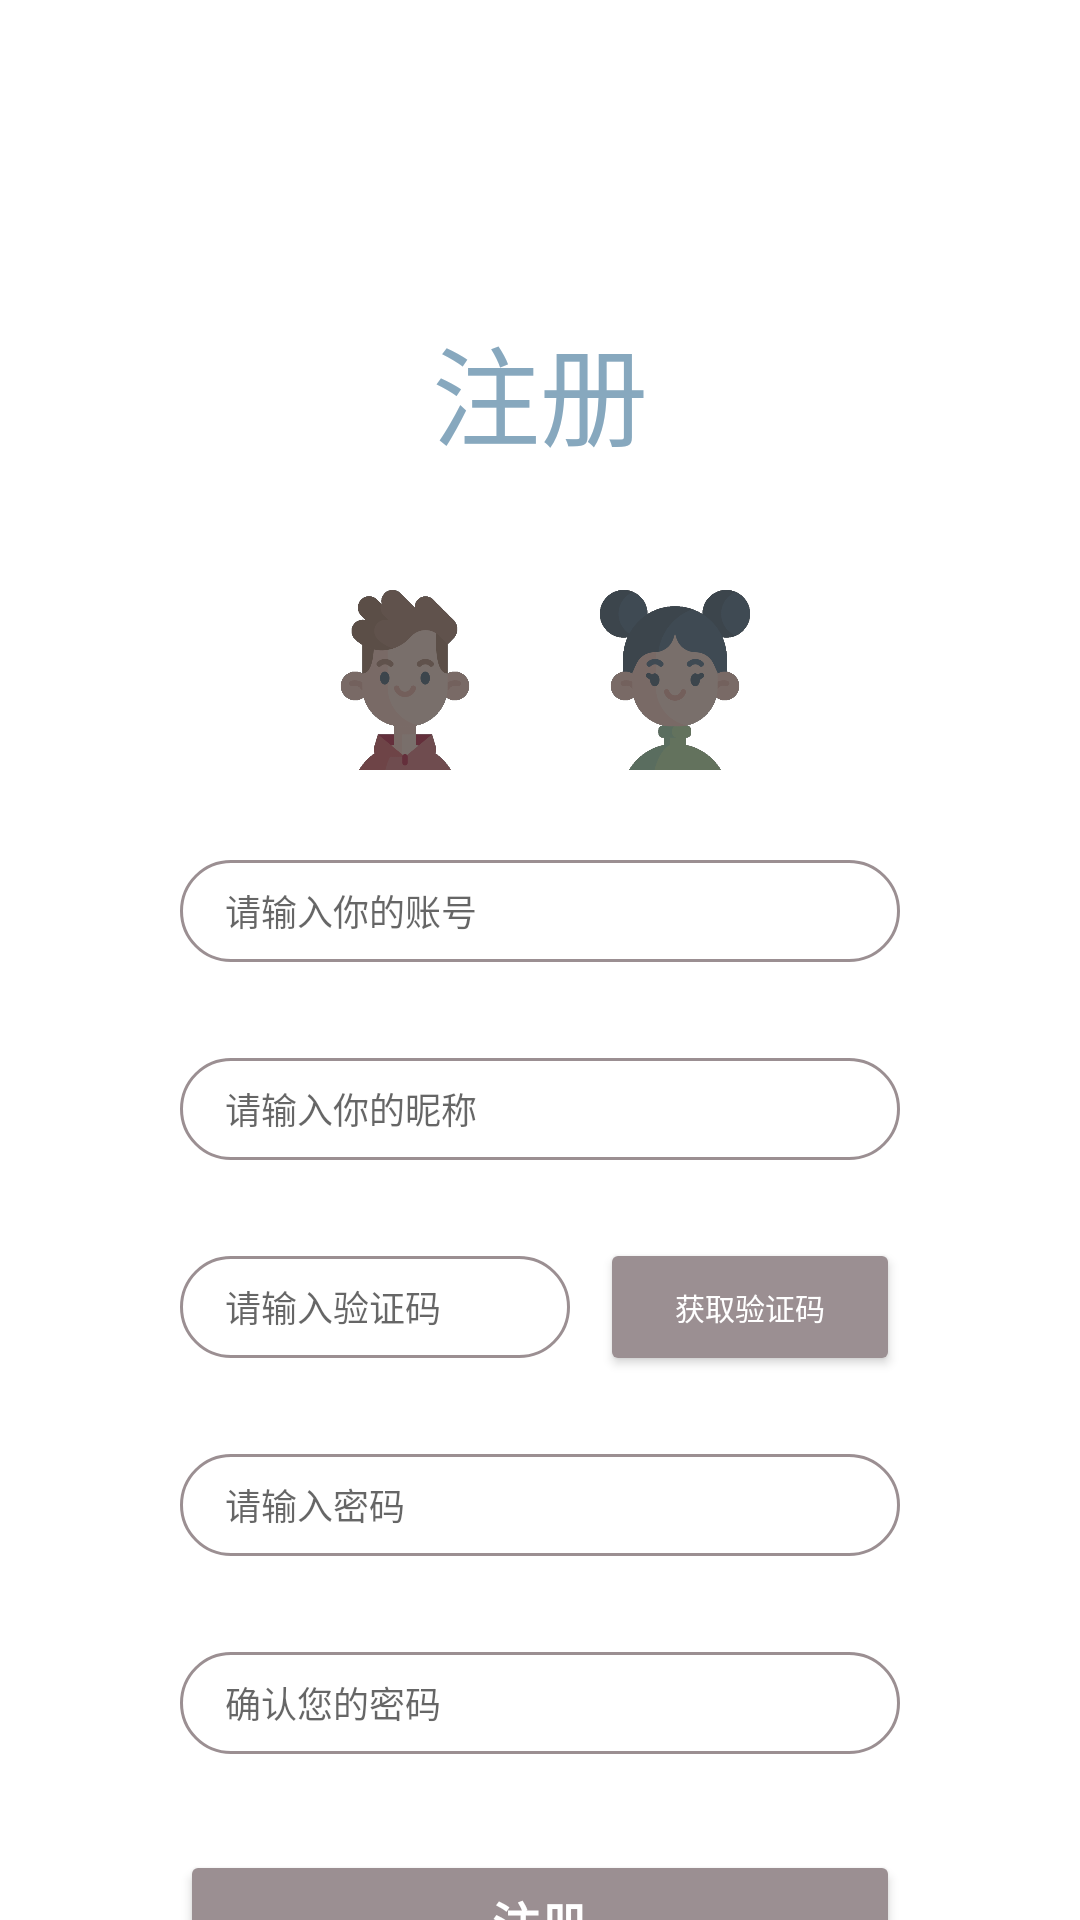

Named icons in this screenshot (1080px x 1920px) and their bounding boxes, bbox(x1, y1, x2, y2):
boy: bbox(341, 590, 469, 770)
girl: bbox(600, 590, 750, 770)
